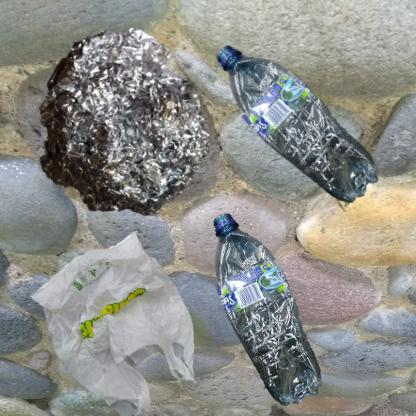aluminio: (10, 10, 237, 252)
bolsa: (10, 213, 226, 416)
botella: (213, 10, 416, 275), (213, 213, 322, 406)
